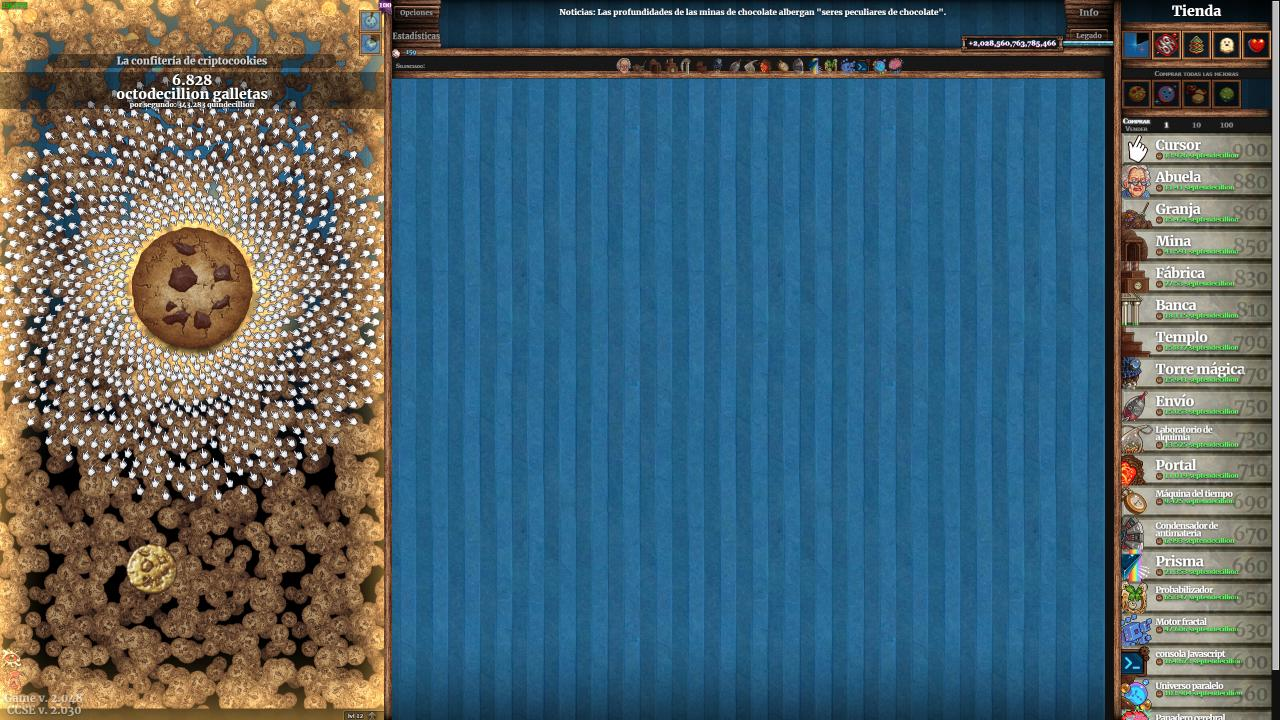GoldenCookie: (125, 542, 180, 596)
